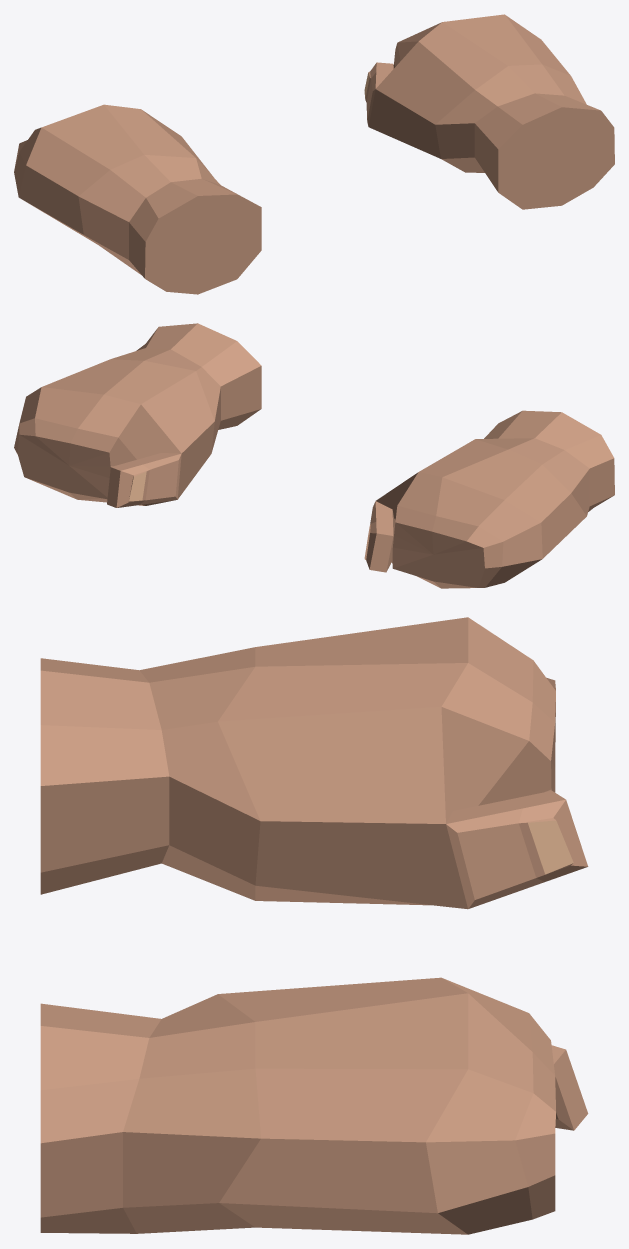
File: ShortHands.fbx
3 views of the same model, one above another, from view 1: azimuth 30°, elevation 25°; view 2: azimuth 150°, elevation 25°; view 3: azimuth 270°, elevation 25° (orthographic). The views are drawn at different scales.
Visible parts, largest first — view 1: Circle.062, Circle.064; view 2: Circle.062, Circle.064; view 3: Circle.064, Circle.062.
Boxes of the visible parts, x1,y1,x2,y2 form: Circle.062: (364,14,614,209); Circle.064: (14,104,261,294); Circle.062: (14,323,261,507); Circle.064: (364,410,614,588); Circle.064: (40,617,588,909); Circle.062: (40,977,588,1234).
Size of the model in its own units: 726 by 144 by 328.
